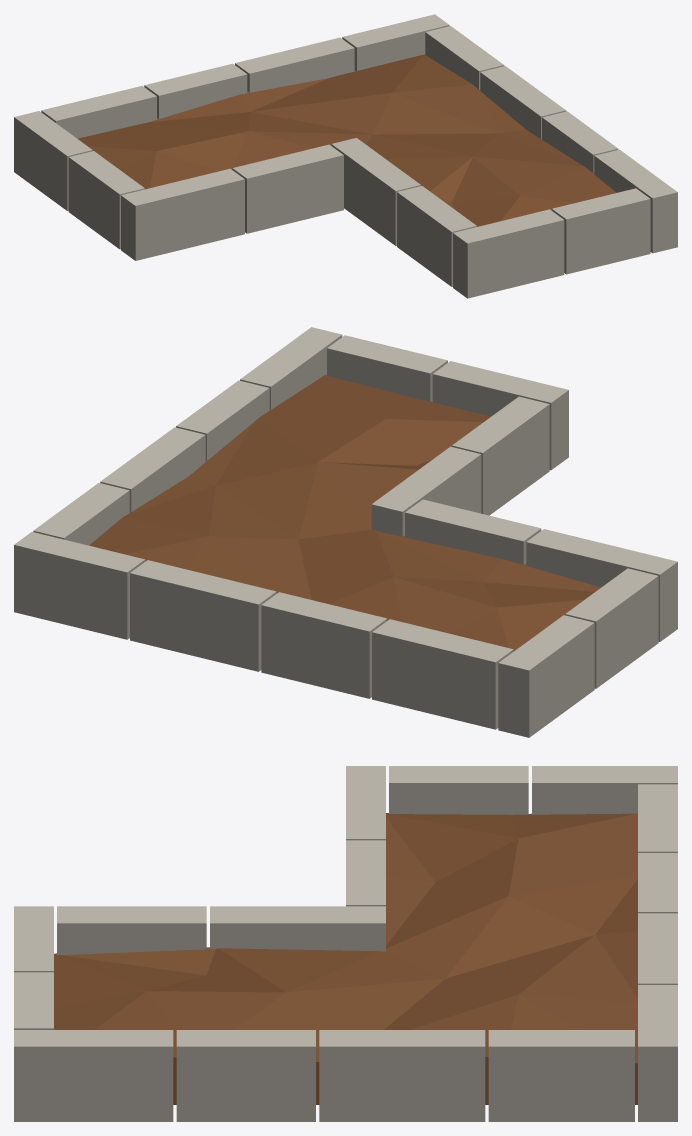
Rendered from FMS_Garden_Bed_Corner.fbx.
3 renders of one model, top to bottom at view 1: azimuth 30°, elevation 25°; view 2: azimuth 150°, elevation 25°; view 3: azimuth 270°, elevation 25°, orthographic. The views are drawn at different scales.
Parts seen in each view (by area): view 1: FMS_Garden_Bed_Corner_Body; view 2: FMS_Garden_Bed_Corner_Body; view 3: FMS_Garden_Bed_Corner_Body.
Part boxes in pixels (x1,y1,x2,y2): FMS_Garden_Bed_Corner_Body: [14, 14, 677, 298]; FMS_Garden_Bed_Corner_Body: [14, 327, 677, 737]; FMS_Garden_Bed_Corner_Body: [14, 766, 677, 1121].
Bounding box in the file's own units: 2 × 0.25 × 2.
Materials: 1 (1 with a texture image).
